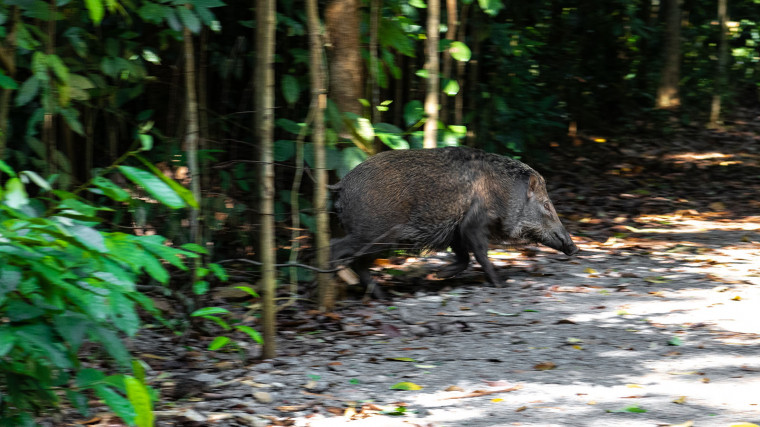boar: (305, 143, 579, 314)
